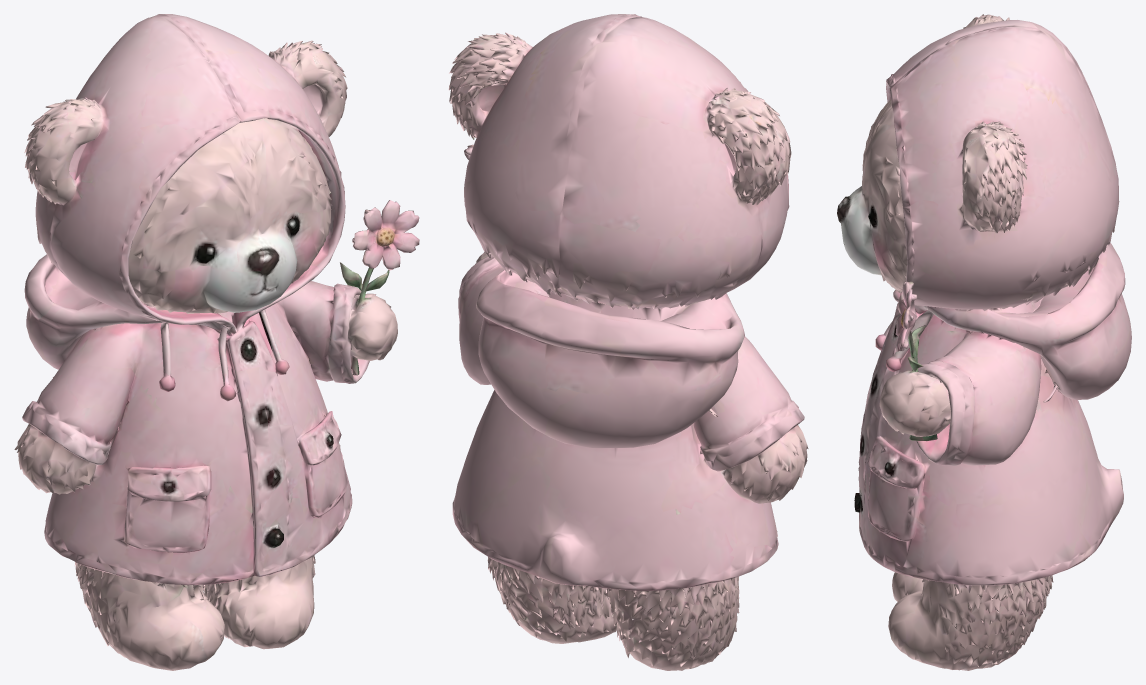
3 views of the same model, side by side, from view 1: azimuth 30°, elevation 25°; view 2: azimuth 150°, elevation 25°; view 3: azimuth 270°, elevation 25° (orthographic). The views are drawn at different scales.
Size of the model in its own units: 1.18 by 1.9 by 0.8455.
1 material, 1 textured.
